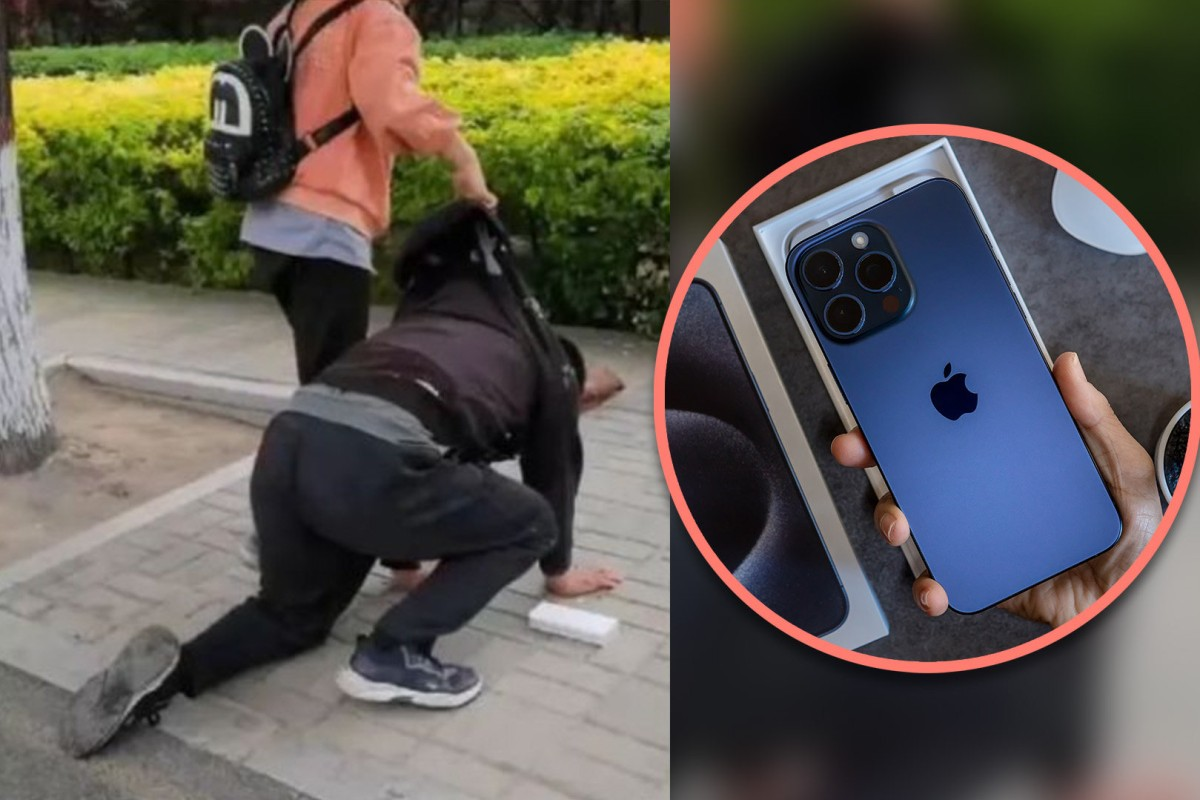kneel: (61, 213, 623, 776)
stand: (237, 1, 506, 558)
